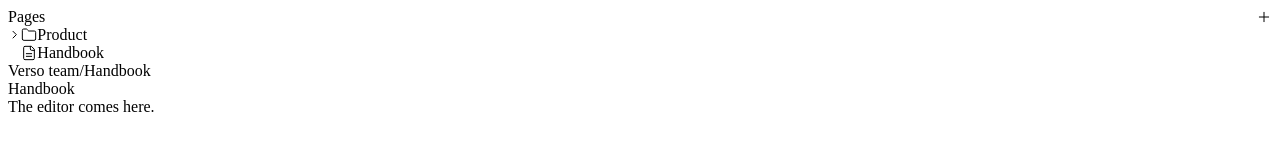
Test: the title › Esc puts back the saved one; leaving it unchanged sends nothing
This screenshot has width=1280, height=160.
Replace the text in the field named "Page title" with "Draft" at (640, 89), box [8,80,1272,98]
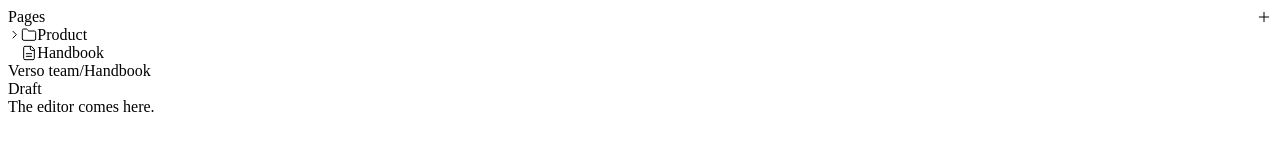
Press Escape in the field named "Page title", box [8,80,1272,98]
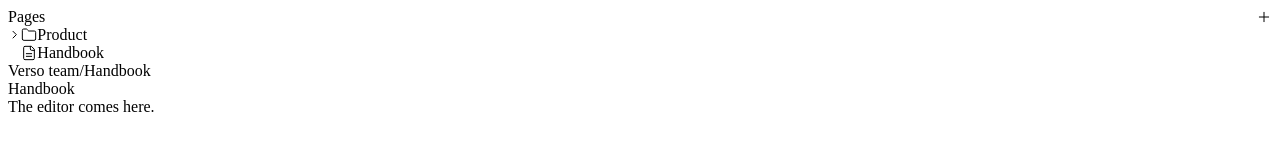
expect the field named "Page title" holds "Handbook": met, box [8,80,1272,98]
